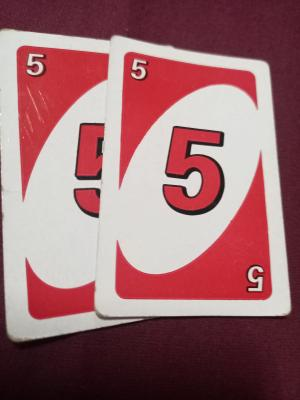num_5: (65, 117, 108, 225), (237, 256, 269, 301), (22, 48, 50, 83)
